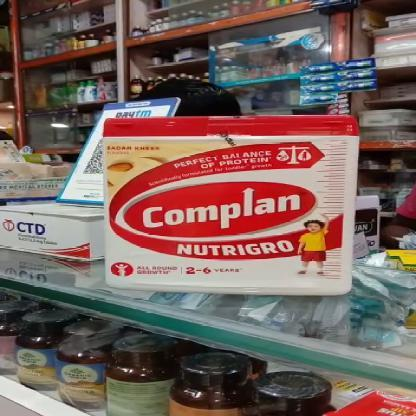Complan Nutrigro Badam Kheer: (105, 114, 357, 290)
